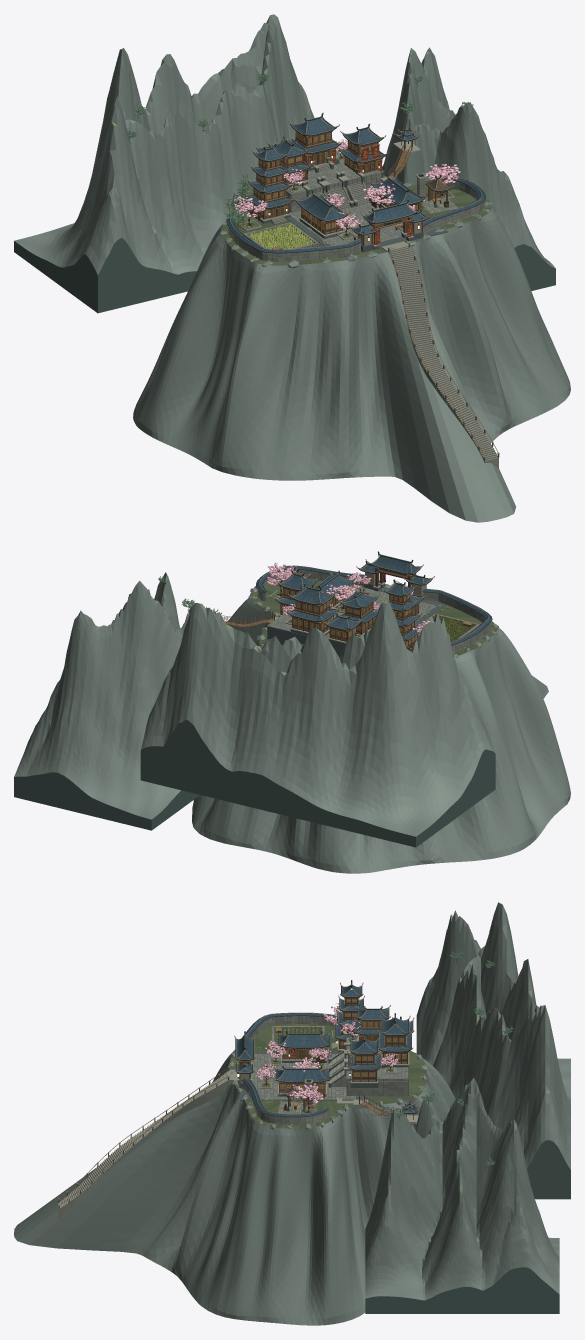
File: sect_diorama.glb
3 views of the same model, one above another, from view 1: azimuth 30°, elevation 25°; view 2: azimuth 150°, elevation 25°; view 3: azimuth 270°, elevation 25° (orthographic). The views are drawn at different scales.
Parts seen in each view (by area): view 1: environment_matte, back_mountain_matte, gate_matte, library_matte, training_matte, council_matte, alchemy_matte, male_quarters_matte, female_quarters_matte, forge_matte, fields_crop, kitchen_matte (+2 smaller); view 2: environment_matte, back_mountain_matte, council_matte, gate_matte, library_matte, female_quarters_matte, male_quarters_matte, guest_quarters_matte, kitchen_matte, kitchen_blossom, fields_matte, training_matte (+1 smaller); view 3: environment_matte, back_mountain_matte, gate_matte, training_matte, council_matte, alchemy_matte, male_quarters_matte, library_matte, kitchen_matte, female_quarters_matte, forge_matte.
Boxes of the visible parts, x1,y1,x2,y2 form: environment_matte: (14, 14, 570, 522); back_mountain_matte: (381, 47, 555, 290); gate_matte: (349, 199, 499, 468); library_matte: (238, 143, 296, 230); training_matte: (289, 168, 440, 245); council_matte: (284, 112, 344, 172); alchemy_matte: (293, 190, 354, 240); male_quarters_matte: (337, 123, 389, 177); female_quarters_matte: (266, 134, 314, 193); forge_matte: (416, 169, 457, 213); fields_crop: (250, 223, 313, 249); kitchen_matte: (368, 173, 426, 230); environment_matte: (140, 565, 570, 873); back_mountain_matte: (14, 572, 278, 830); council_matte: (284, 583, 340, 635); gate_matte: (356, 551, 434, 601); library_matte: (379, 579, 422, 651); female_quarters_matte: (335, 587, 380, 636); male_quarters_matte: (273, 570, 322, 616); guest_quarters_matte: (322, 611, 363, 645); kitchen_matte: (314, 570, 366, 613); kitchen_blossom: (326, 572, 371, 609); fields_matte: (416, 613, 479, 640); training_matte: (330, 585, 436, 621); environment_matte: (14, 902, 570, 1325); back_mountain_matte: (337, 1077, 559, 1313); gate_matte: (58, 1031, 255, 1219); training_matte: (251, 1040, 355, 1099); council_matte: (375, 1013, 412, 1073); alchemy_matte: (269, 1030, 331, 1069); male_quarters_matte: (347, 1034, 381, 1087); library_matte: (331, 980, 364, 1052); kitchen_matte: (260, 1062, 330, 1099); female_quarters_matte: (347, 1004, 393, 1047); forge_matte: (277, 1079, 316, 1113).
Size of the model in its own units: 80 by 54.19 by 97.55.
